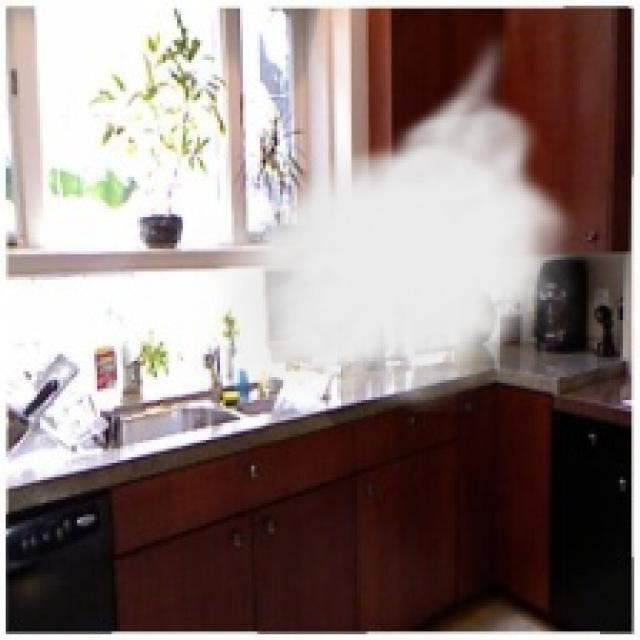smoke: (194, 29, 583, 414)
